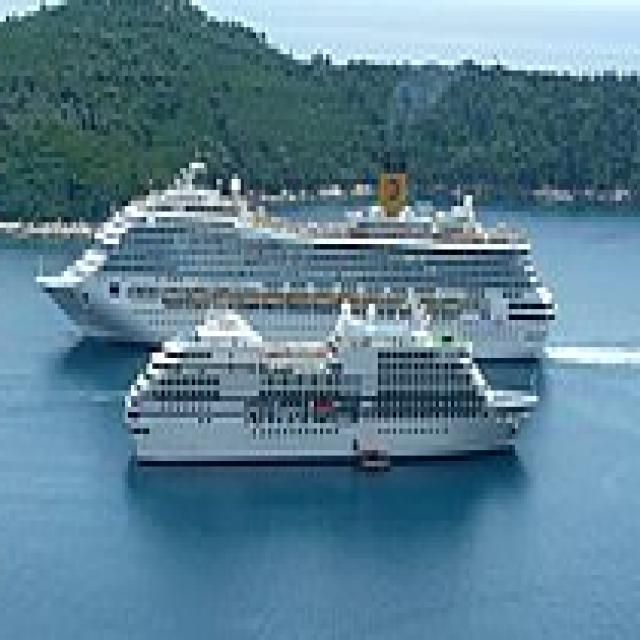Cruise: (33, 157, 564, 342), (122, 276, 548, 466)
